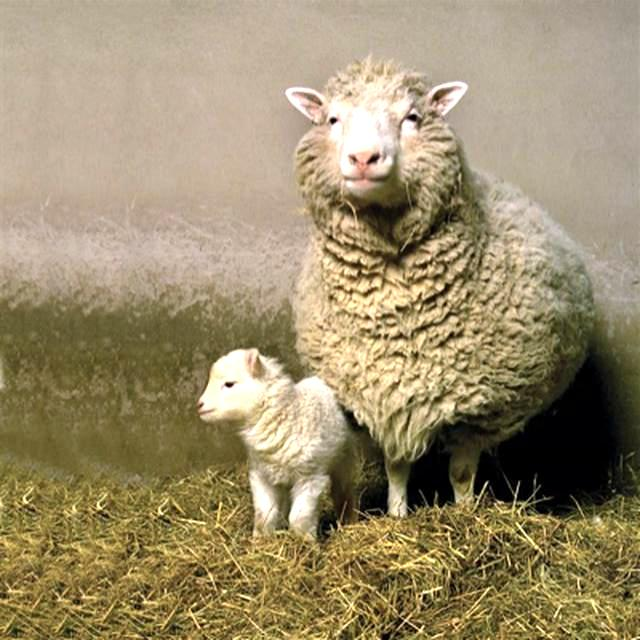sheep: (288, 62, 596, 519), (197, 345, 362, 545)
